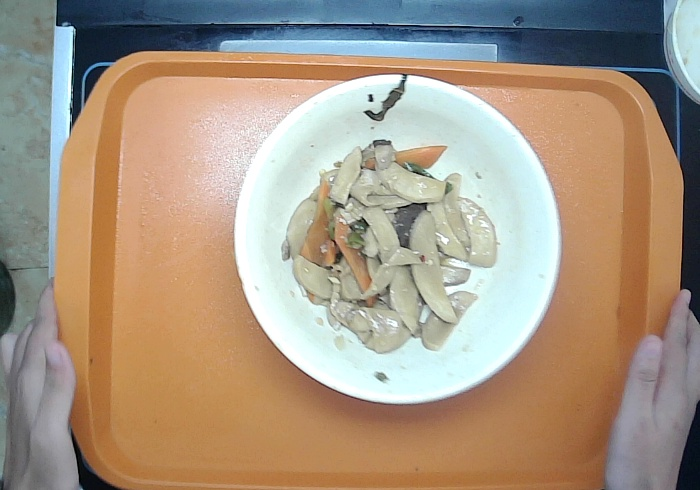ZNLD-Da_Tang_Wan: (229, 72, 568, 407)
